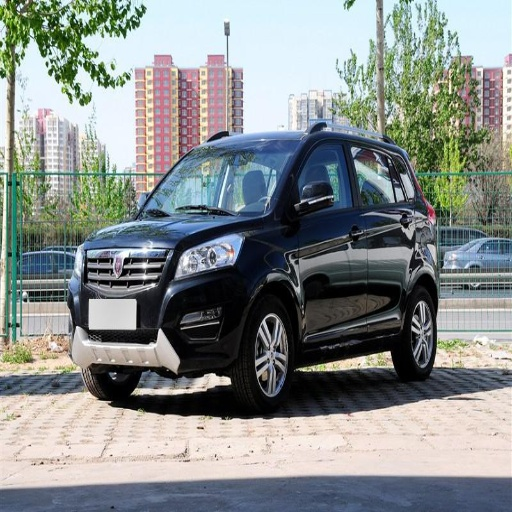front_bumper: (69, 246, 252, 373)
front_glass: (142, 139, 301, 213)
front_left_door: (290, 137, 366, 337)
